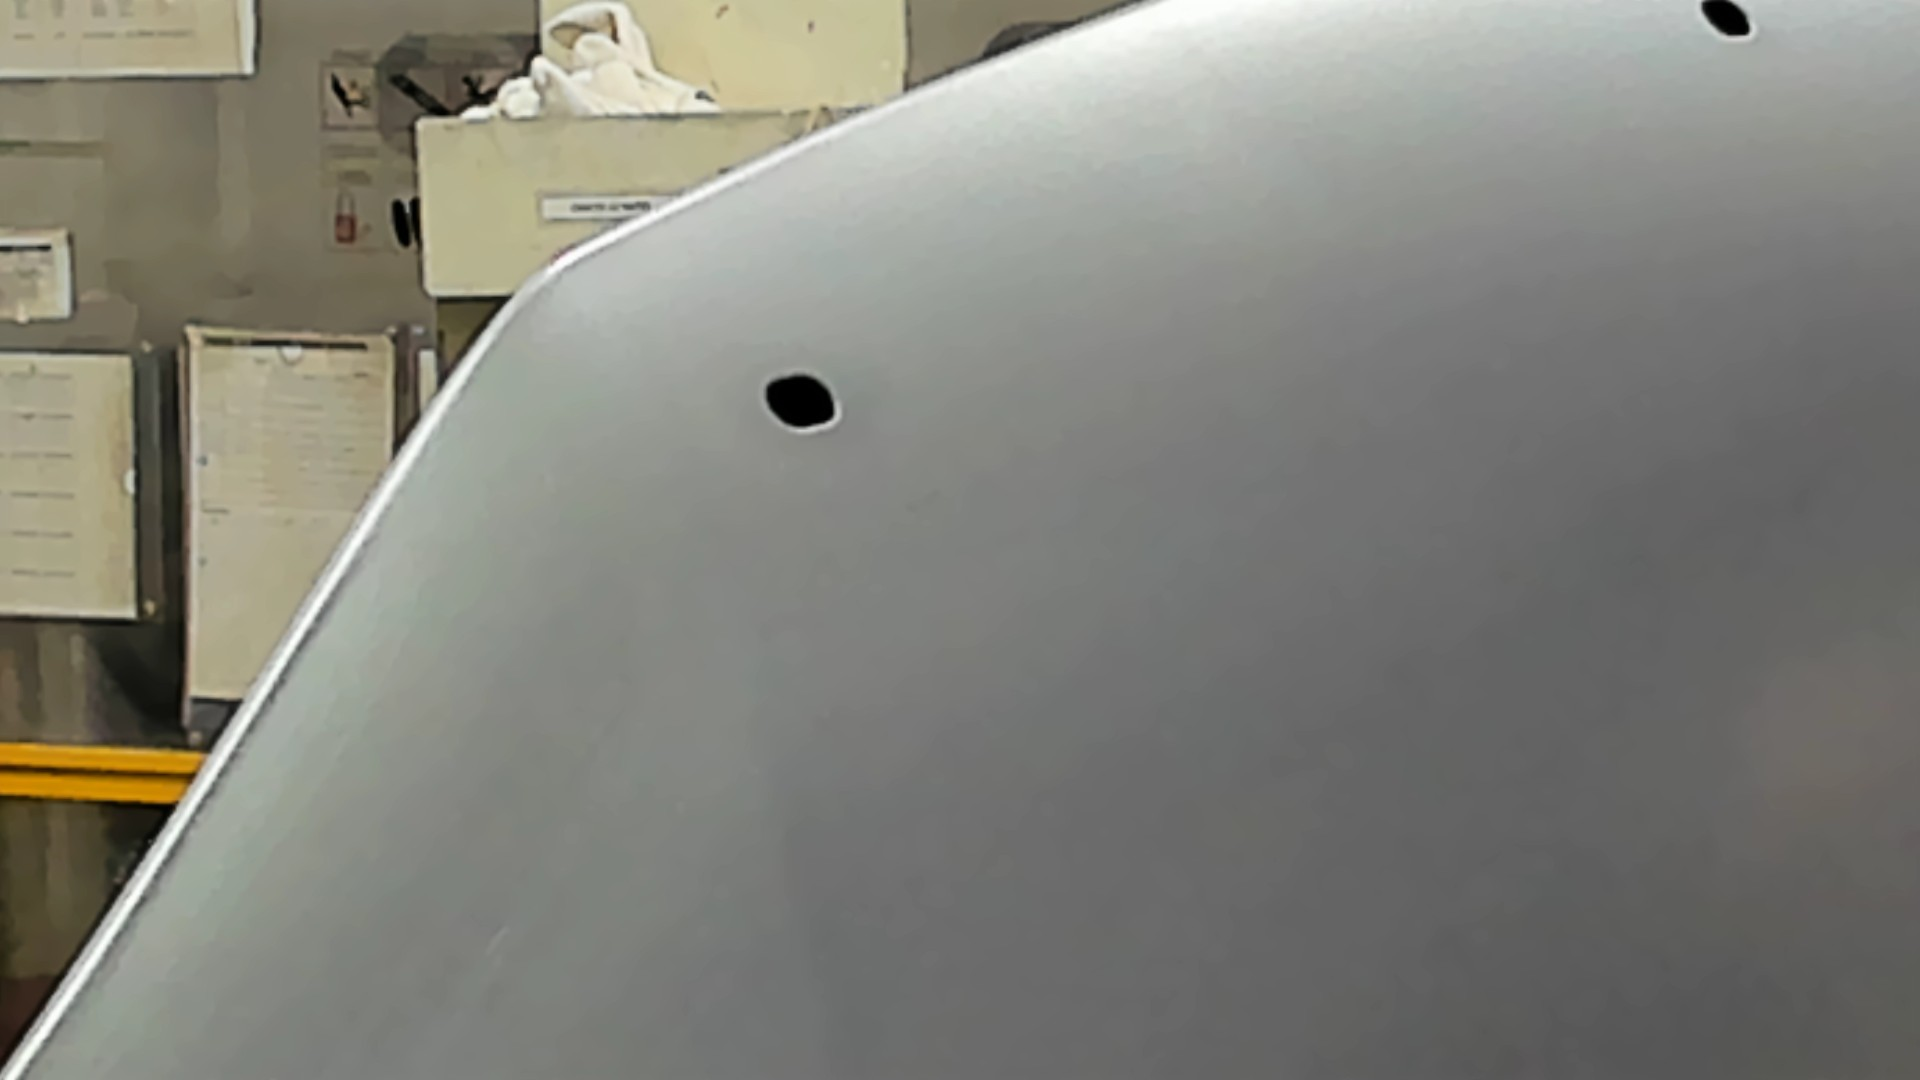amorfo: (760, 367, 841, 436), (1692, 1, 1763, 51)
